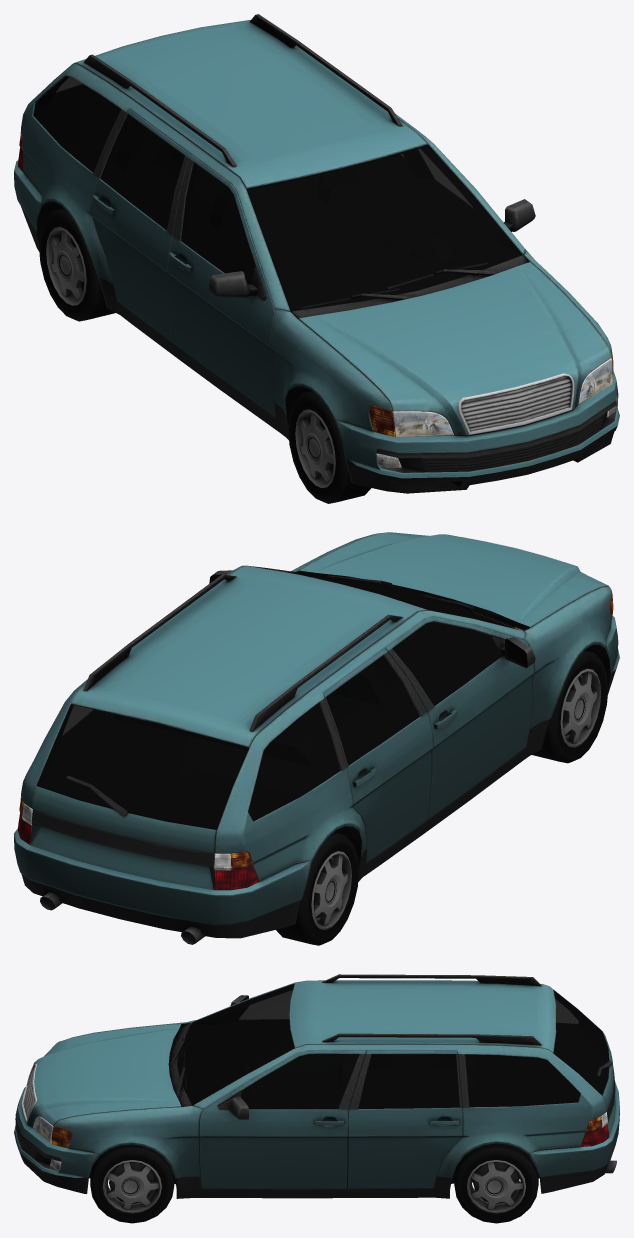
Rendered from stationwagon.glb.
3 views of the same model, one above another, from view 1: azimuth 30°, elevation 25°; view 2: azimuth 150°, elevation 25°; view 3: azimuth 270°, elevation 25° (orthographic). The views are drawn at different scales.
Visible parts, largest first — view 1: body, wheel_fr, wheel_rr; view 2: body, wheel_rr, wheel_fr; view 3: body, wheel_rl, wheel_fl.
Part boxes in pixels (x1,y1,x2,y2): body: (14, 14, 619, 493); wheel_fr: (288, 391, 371, 503); wheel_rr: (39, 208, 115, 321); body: (14, 532, 619, 944); wheel_rr: (276, 832, 359, 945); wheel_fr: (532, 650, 608, 763); body: (14, 974, 619, 1198); wheel_rl: (454, 1143, 538, 1223); wheel_fl: (90, 1144, 174, 1223).
Bounding box in the file's own units: 2.14 × 1.51 × 4.8.
Materials: 4 (3 with a texture image).
